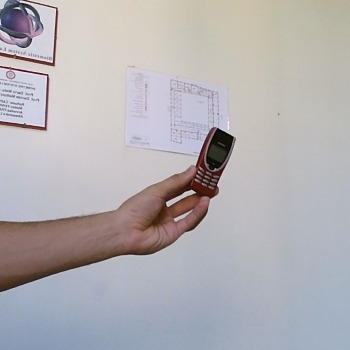hand: (2, 167, 208, 289)
